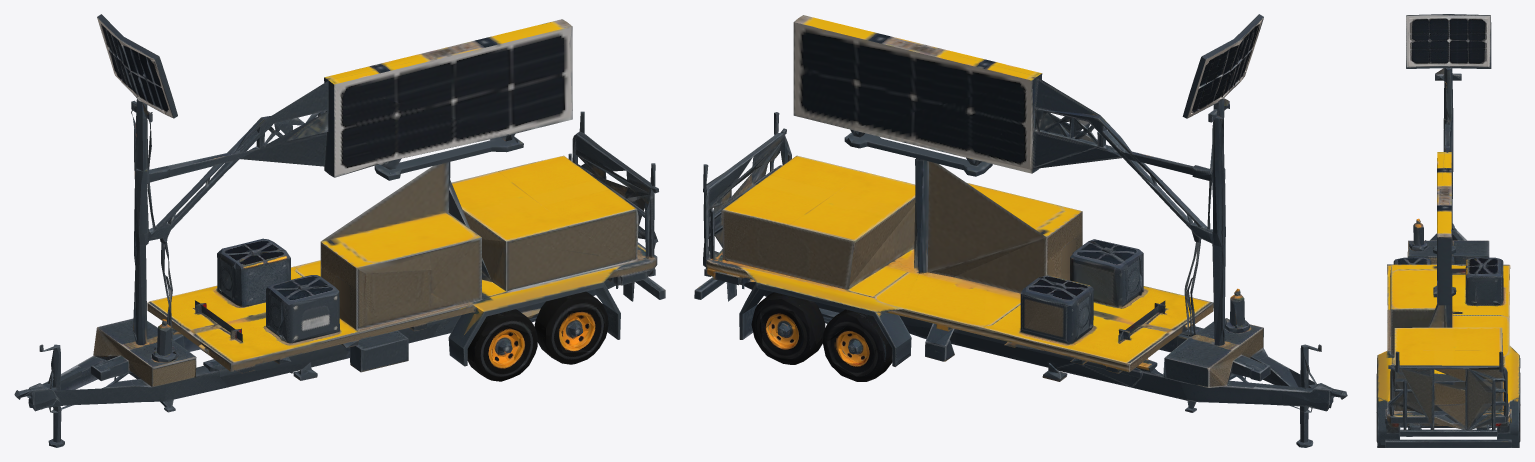
3 renders of one model, left to right at view 1: azimuth 30°, elevation 25°; view 2: azimuth 150°, elevation 25°; view 3: azimuth 270°, elevation 25°, orthographic. The views are drawn at different scales.
Bounding box in the file's own units: 1.9 × 1.17 × 0.5336.
1 material, 1 textured.
